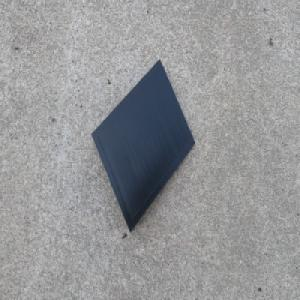PlasticPart: (92, 60, 195, 232)
